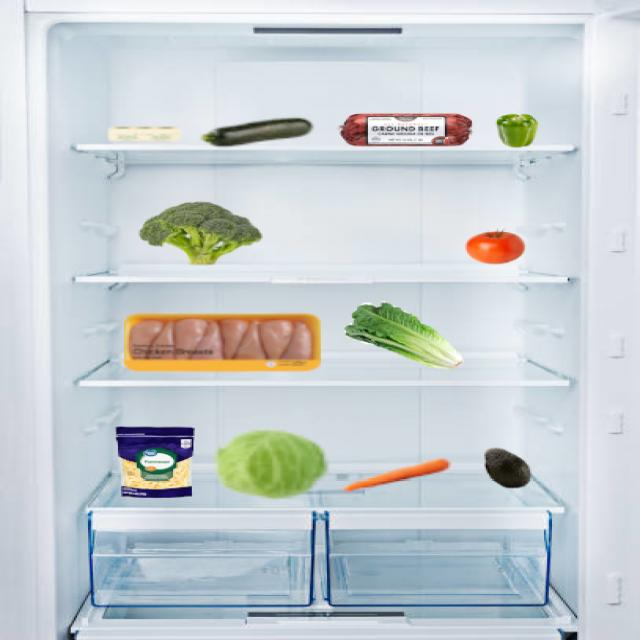avocado: (480, 445, 536, 490)
beef: (340, 112, 474, 149)
bell pepper: (496, 112, 544, 148)
broccoli: (136, 200, 264, 268)
butter: (104, 124, 185, 146)
cabbage: (216, 428, 328, 499)
carrot: (342, 455, 454, 496)
cheese: (114, 424, 197, 499)
chicken: (119, 314, 323, 372)
lettuce: (346, 301, 460, 372)
tomato: (466, 229, 528, 266)
zucchini: (201, 116, 315, 150)
